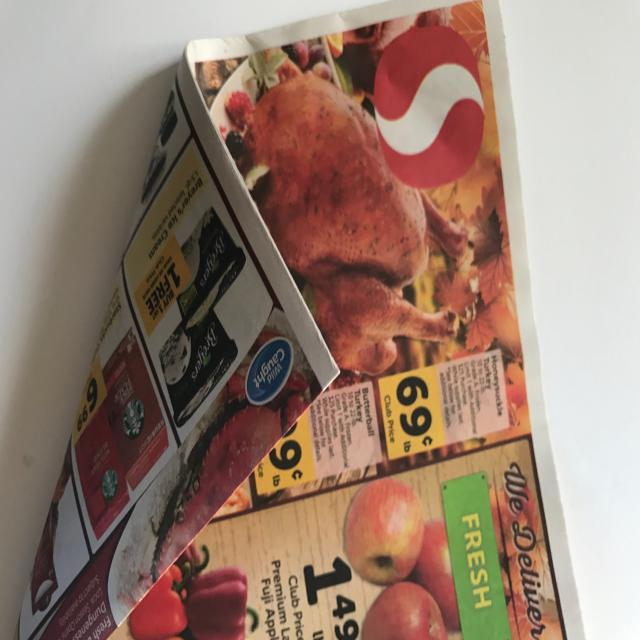paper: (27, 0, 596, 640)
